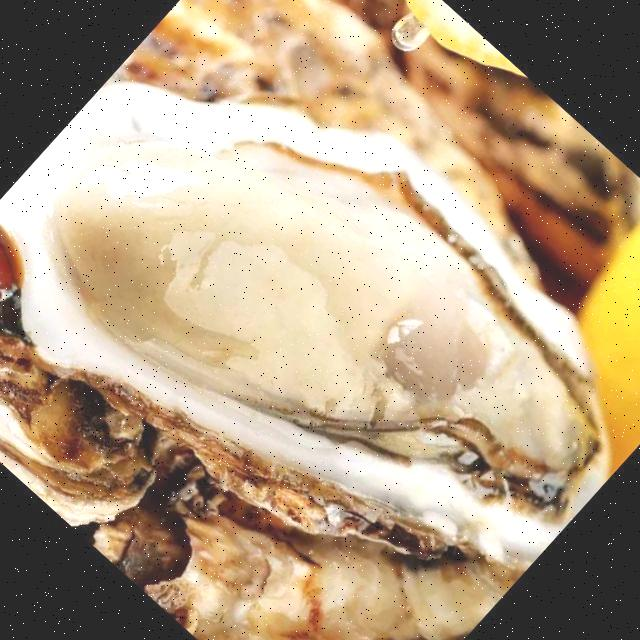Oyster-Open: (1, 76, 614, 570)
